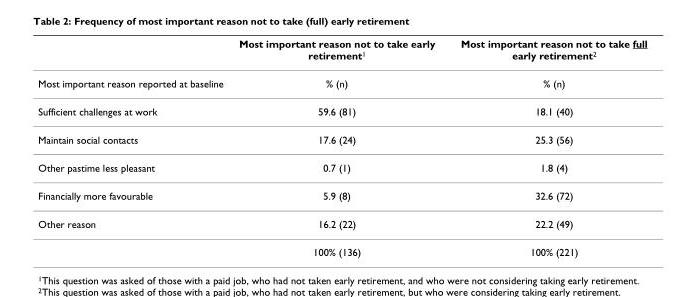table: (37, 37, 646, 257)
table column: (230, 37, 447, 257), (447, 37, 646, 257), (37, 37, 230, 257)
table column header: (37, 37, 646, 69)
table row: (37, 37, 646, 69), (37, 69, 646, 97), (37, 97, 646, 125), (37, 125, 646, 153), (37, 153, 646, 181), (37, 181, 646, 209), (37, 209, 646, 237), (37, 237, 646, 257)
table spanning cell: (37, 209, 230, 257)
